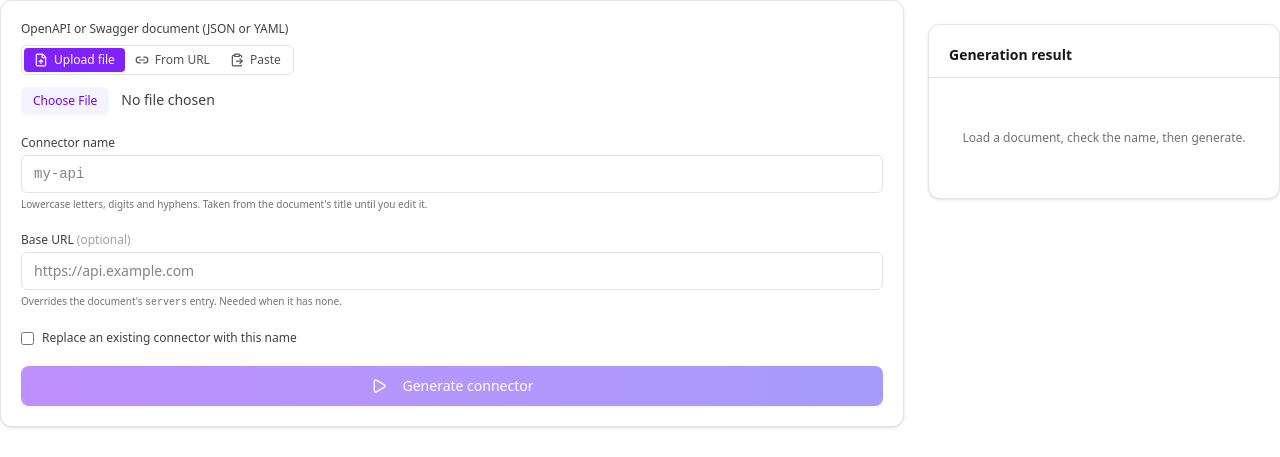
it: SpecUploadFlow › tells the user to upload the file when the browser cannot fetch the URL
The image size is (1280, 457).
Click the tab with test id "spec-source-url" at (172, 60), box left=125, top=48, right=220, bottom=72
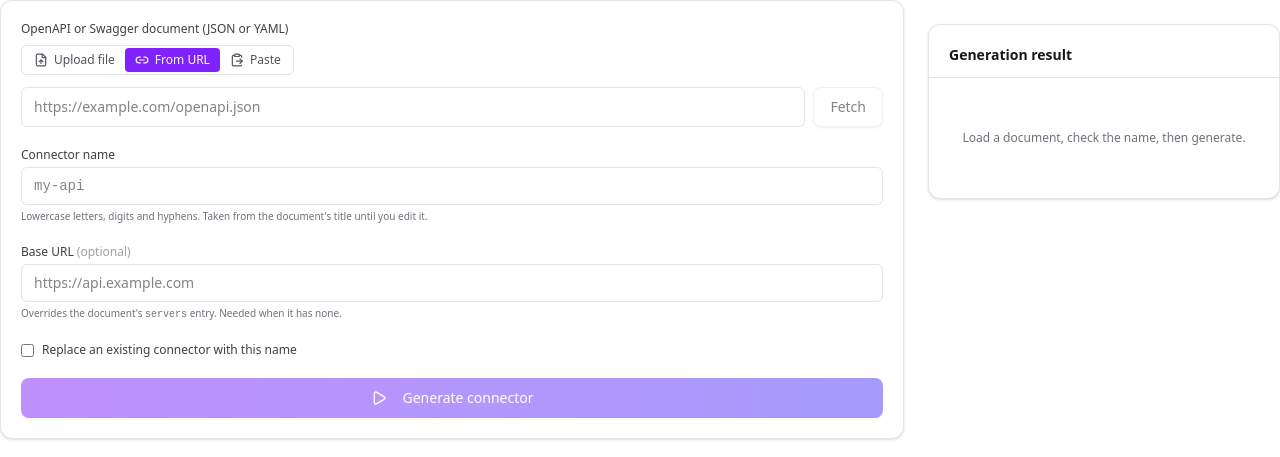
Type "https://no-cors.example.com/api.json" into the field with test id "spec-url-input" at (413, 107), box left=21, top=87, right=805, bottom=127
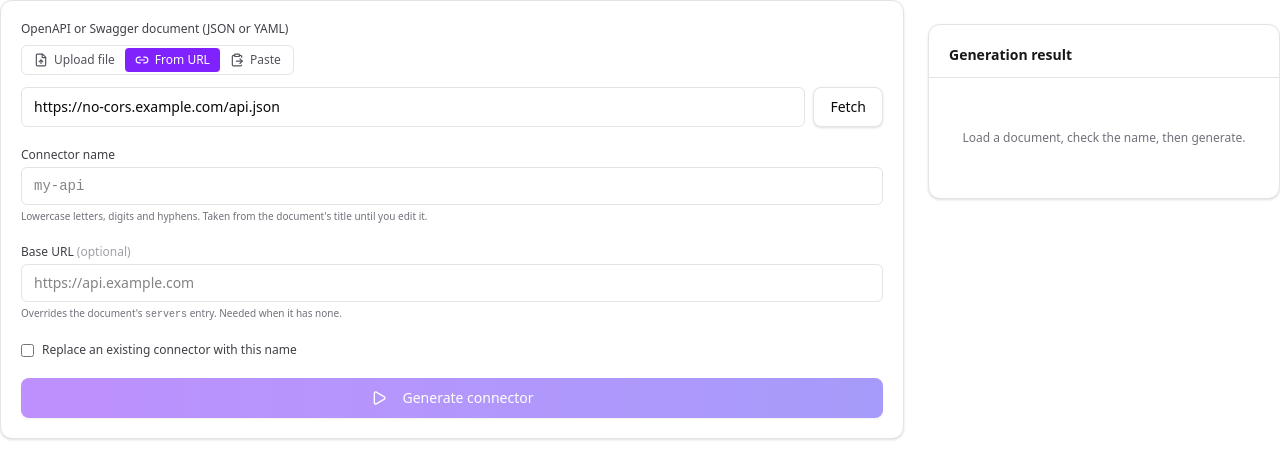
Click the button with test id "spec-url-fetch" at (848, 107), box left=813, top=87, right=883, bottom=127
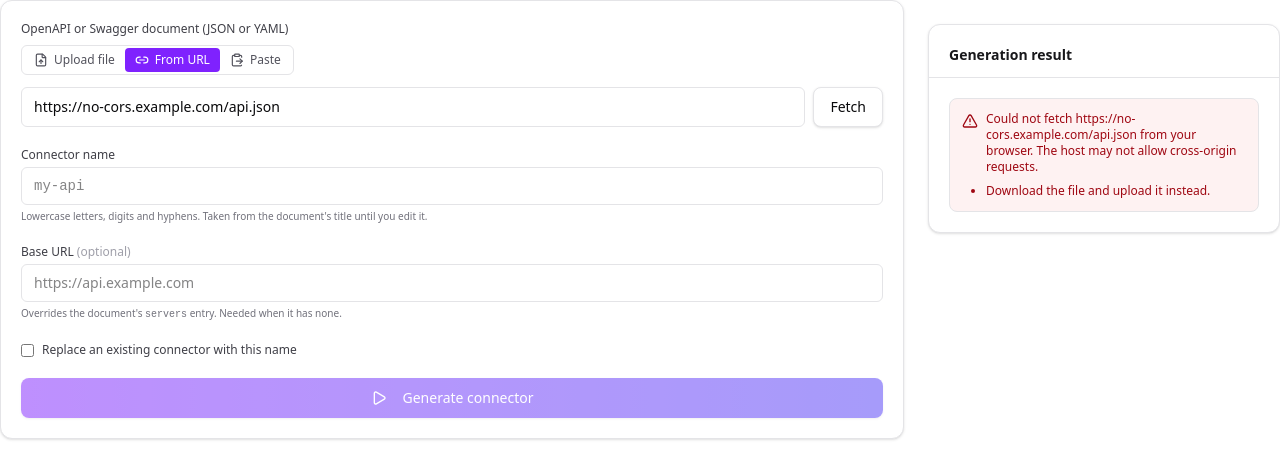
Expected: the message with test id "spec-result-error" shows "Download the file and upload it instead.", left=986, top=182, right=1210, bottom=199
